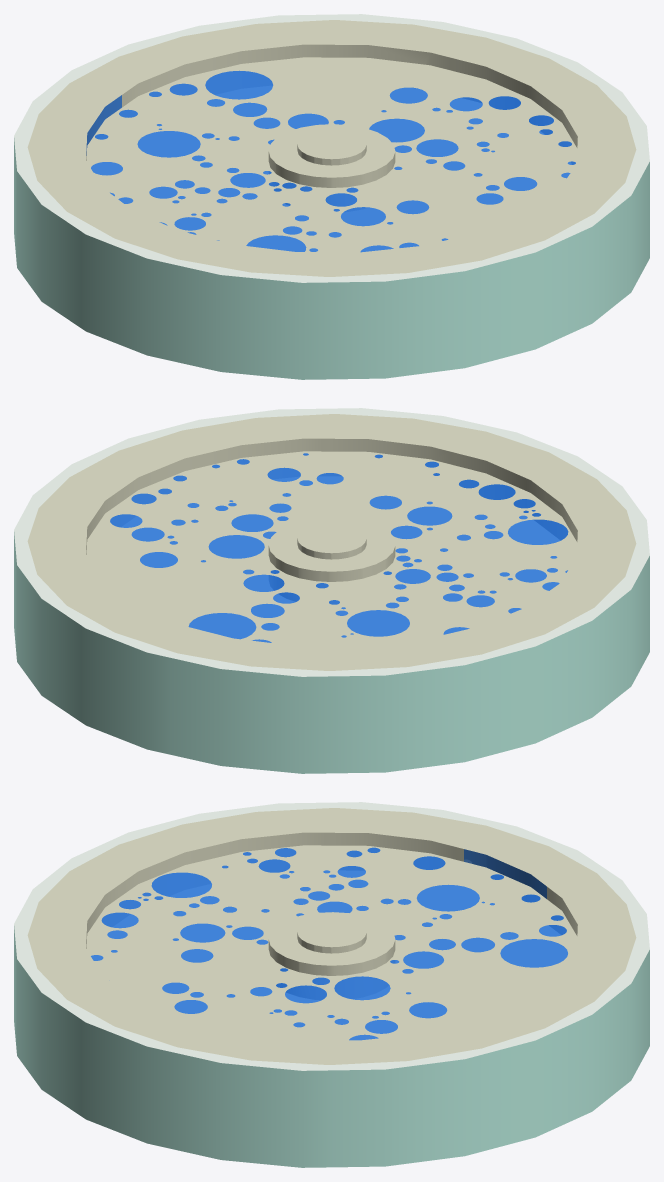
The model's file is dock.fbx.
3 renders of one model, top to bottom at view 1: azimuth 30°, elevation 25°; view 2: azimuth 150°, elevation 25°; view 3: azimuth 270°, elevation 25°, orthographic.
Visible parts, largest first — view 1: Model; view 2: Model; view 3: Model.
Boxes of the visible parts, <box> form: Model: <box>14,14,649,379</box>; Model: <box>14,408,649,773</box>; Model: <box>14,802,649,1167</box>.
Bounding box in the file's own units: 251 × 43.94 × 251.
